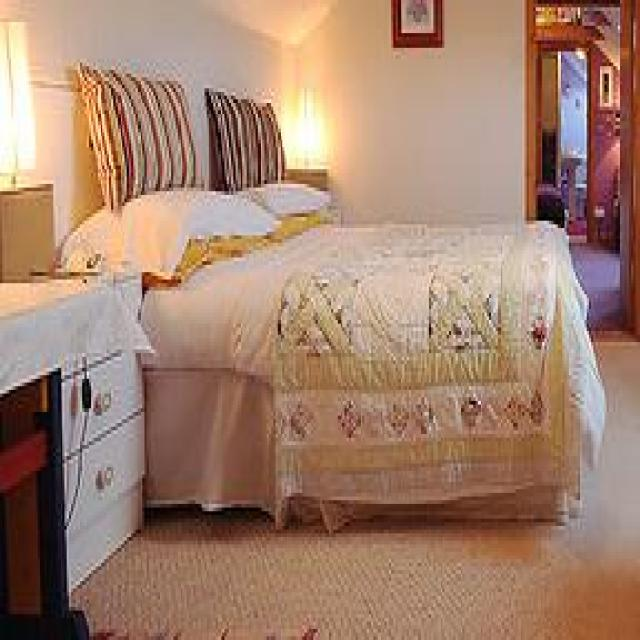bed: (59, 186, 592, 539)
